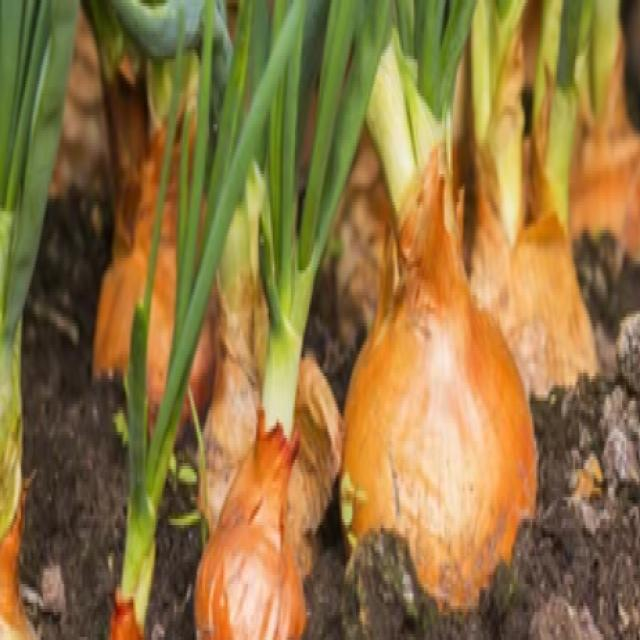sprouting: (357, 94, 467, 274), (254, 227, 304, 497), (108, 450, 158, 628), (476, 71, 526, 230), (538, 22, 574, 230)
